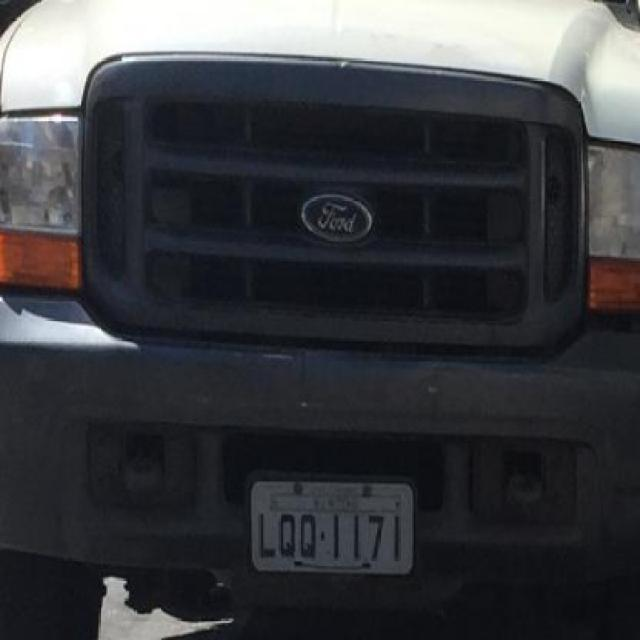old_plate: (245, 478, 420, 580)
